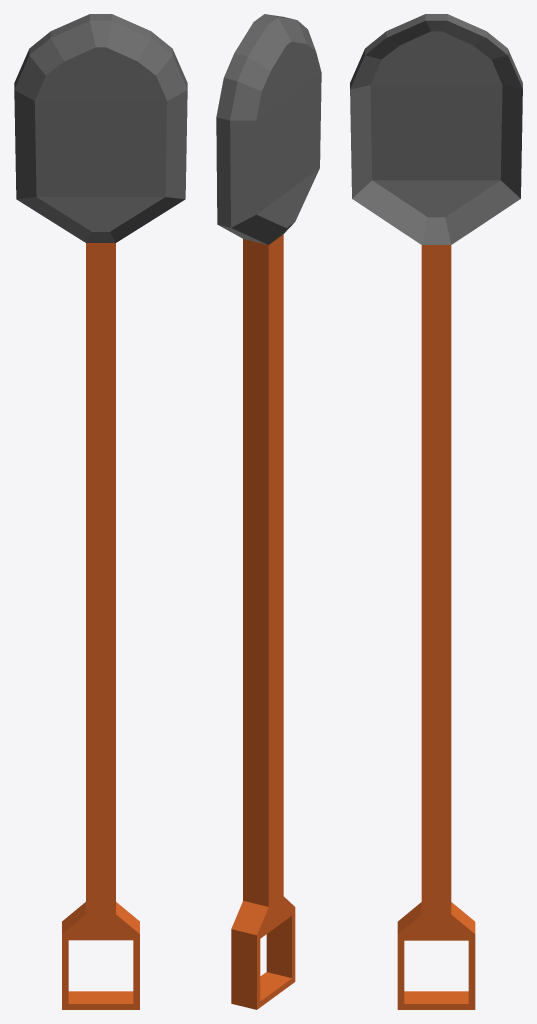
Rendered from pala.fbx.
3 views of the same model, side by side, from view 1: azimuth 90°, elevation 25°; view 2: azimuth 150°, elevation 25°; view 3: azimuth 270°, elevation 25° (orthographic).
Parts seen in each view (by area): view 1: Cube.002; view 2: Cube.002; view 3: Cube.002.
Part boxes in pixels (<box>): Cube.002: <box>14,14,187,1009</box>; Cube.002: <box>216,14,321,1009</box>; Cube.002: <box>350,14,522,1009</box>.
Size of the model in its own units: 7.25 by 167 by 26.6.
